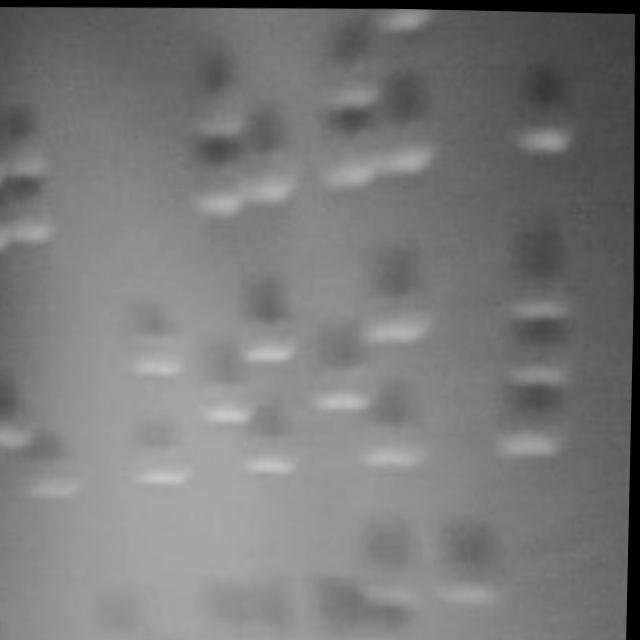braiile: (313, 266, 445, 476), (180, 4, 297, 224), (322, 6, 445, 186), (88, 296, 198, 496), (205, 287, 312, 485), (464, 270, 571, 461), (460, 8, 580, 170), (0, 27, 64, 267), (314, 535, 434, 640), (102, 549, 197, 640)
